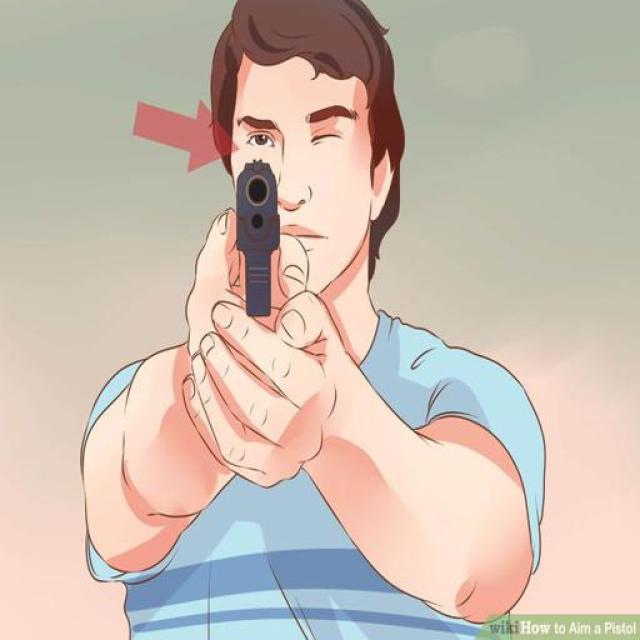pistol: (235, 155, 282, 320)
